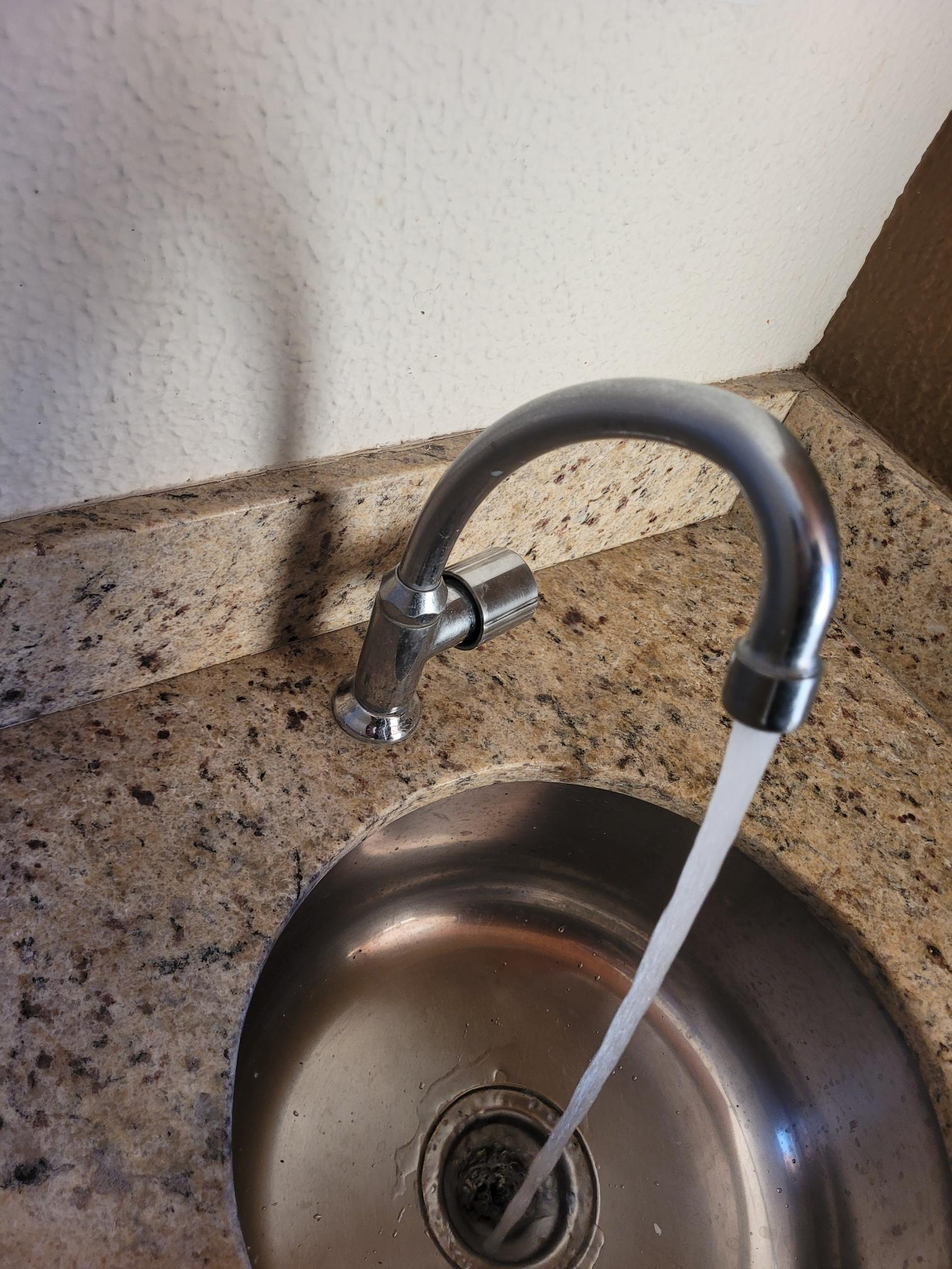torneira_aberta: (311, 276, 866, 1246)
